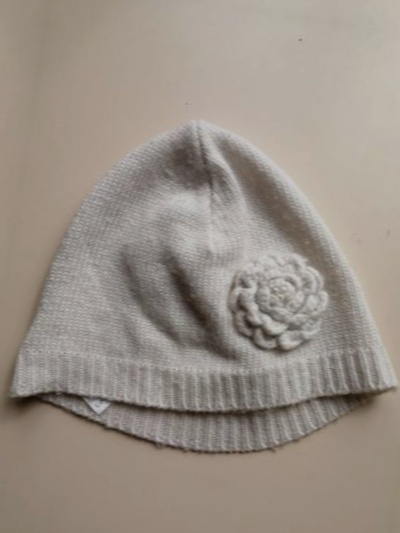Hat: (0, 75, 400, 488), (0, 12, 34, 425)
